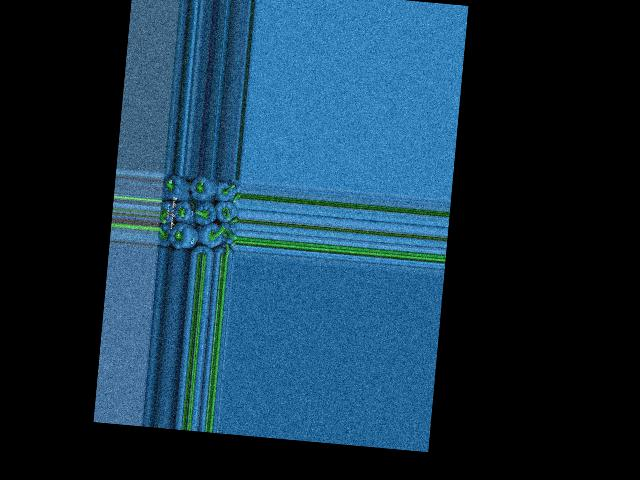bell_pepper: (156, 222, 175, 250)
